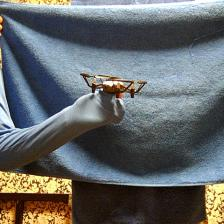drone: (79, 70, 148, 103)
